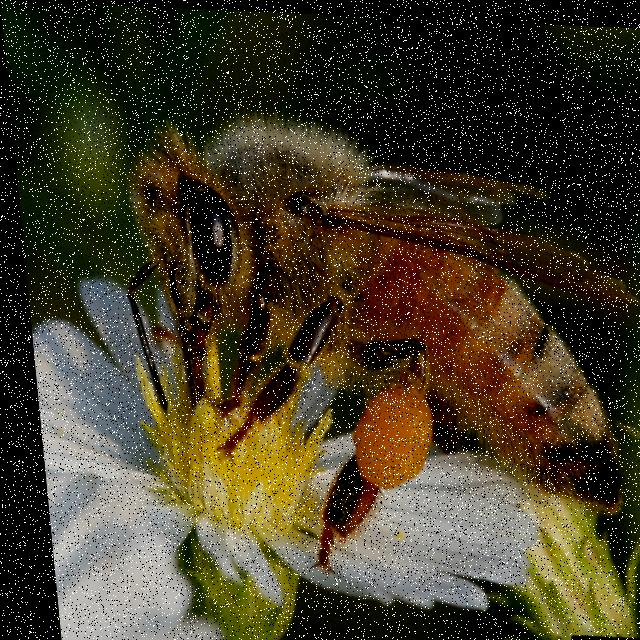Apis-mellifera-scutellata: (100, 73, 640, 580)
